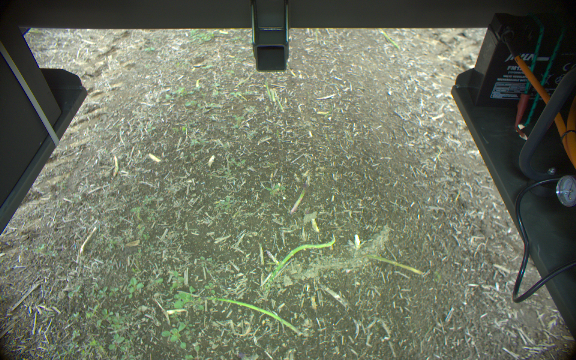aspa: (201, 294, 303, 338), (266, 237, 333, 283), (365, 252, 424, 277), (291, 180, 308, 213)
